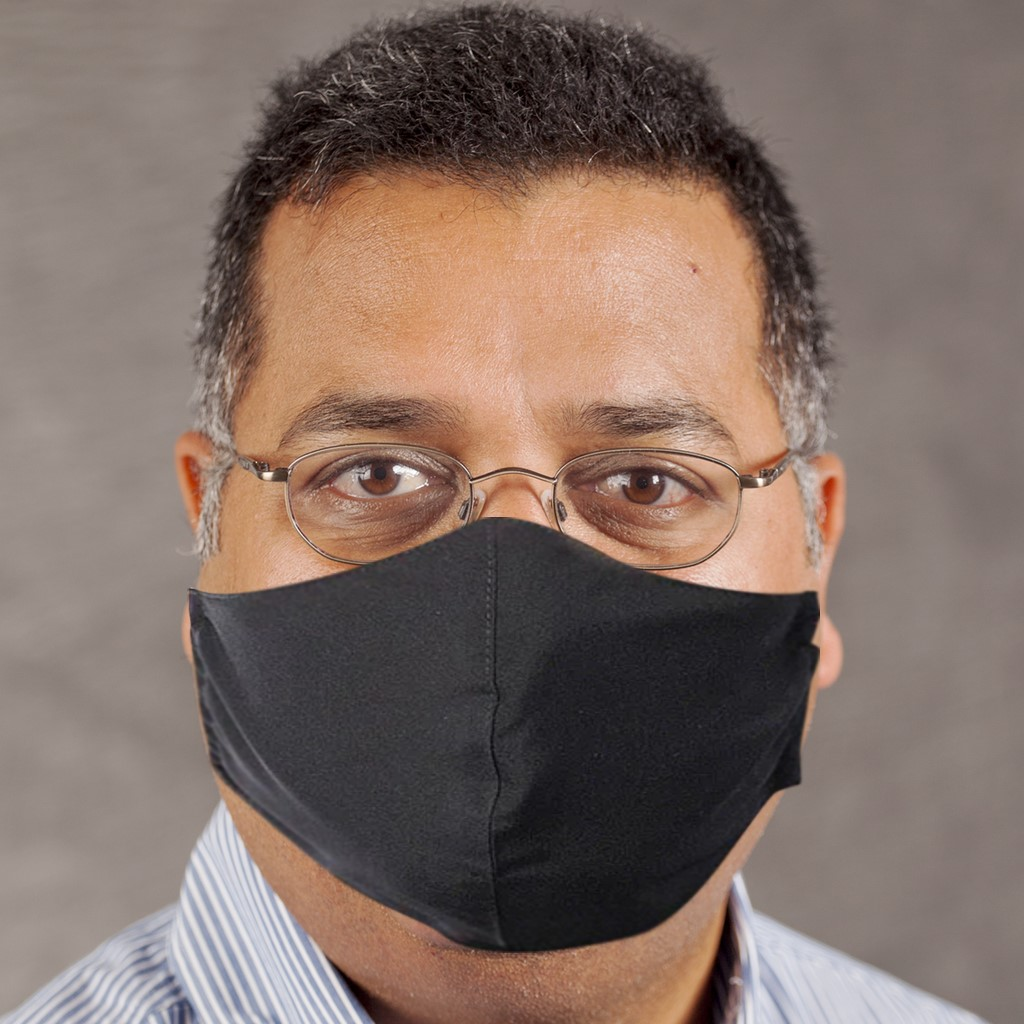con_mascara: (235, 146, 794, 923)
